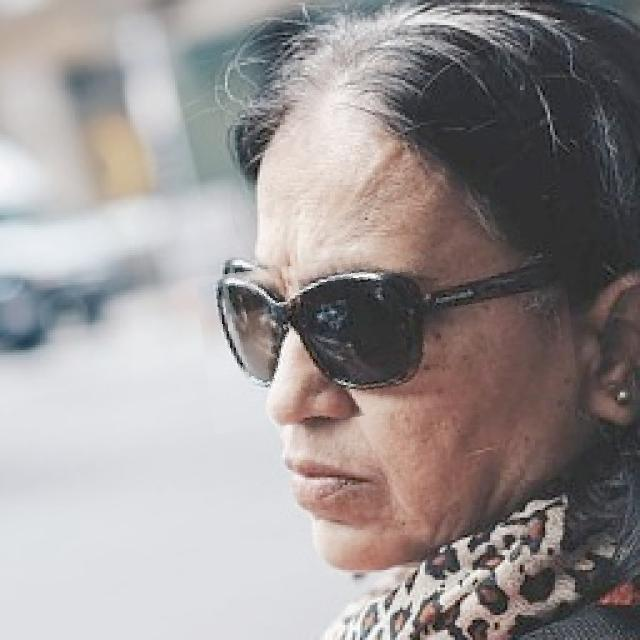glasses: (199, 244, 575, 424)
